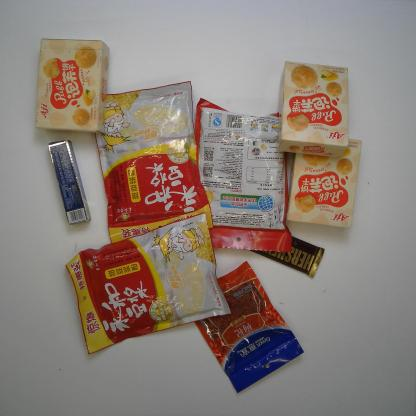Chocolate: (223, 218, 328, 280)
Dessert: (273, 58, 354, 161), (283, 129, 363, 231), (33, 34, 110, 137)
Dried Fruit: (182, 258, 306, 396)
Instant Drink: (65, 210, 232, 358), (84, 79, 216, 248), (180, 98, 304, 256)
Personal Hygiene: (46, 139, 92, 228)
